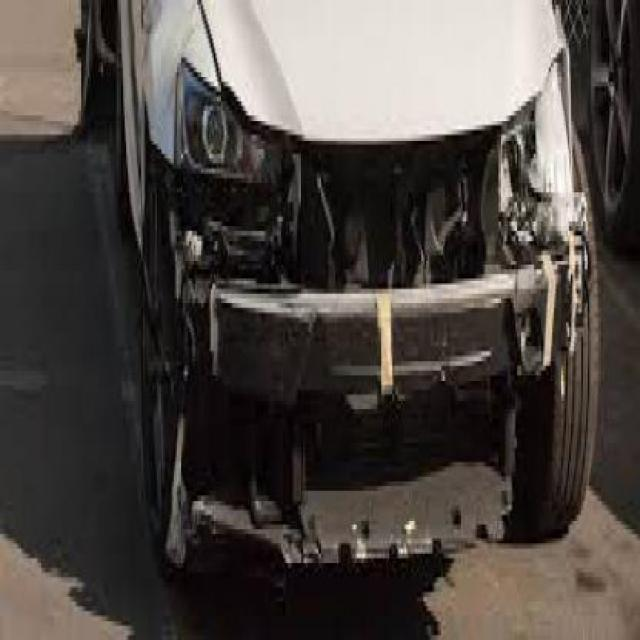damaged-front-bumper: (172, 188, 582, 538)
